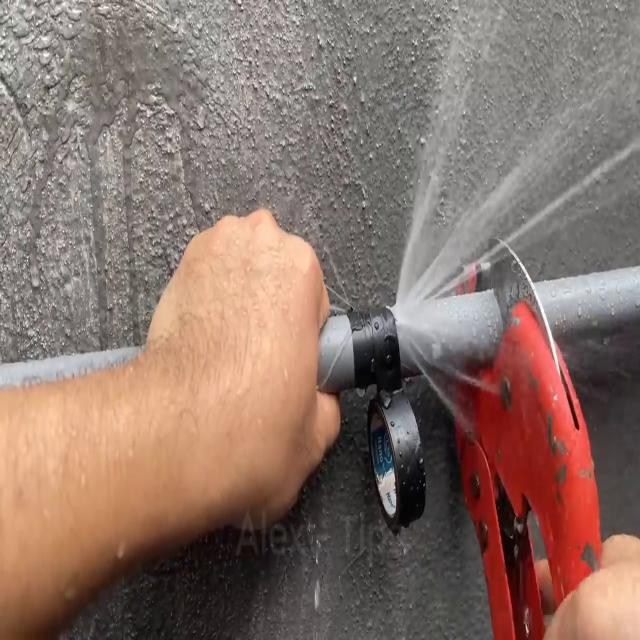leak: (392, 0, 640, 640)
